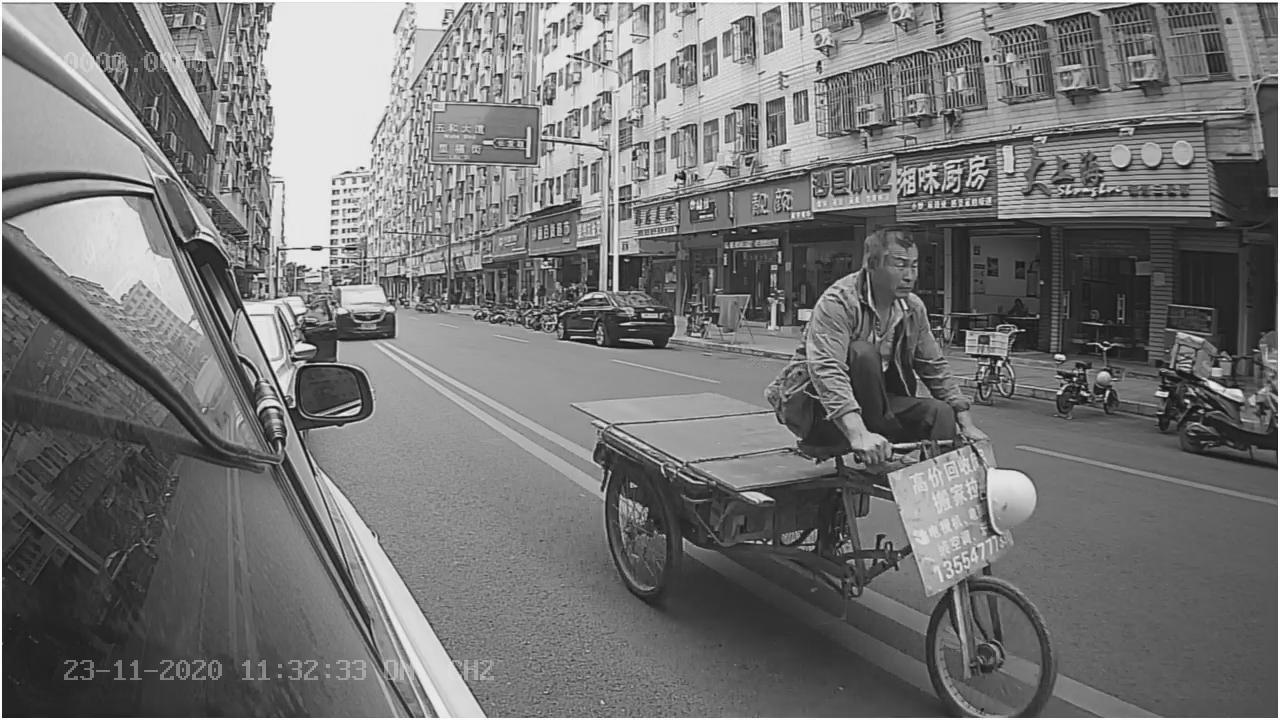person: (781, 206, 992, 462)
